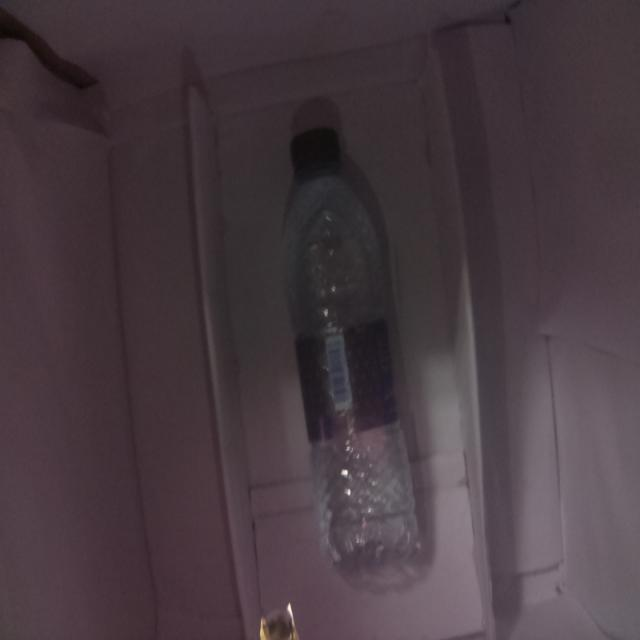Anorganik: (284, 123, 418, 577)
